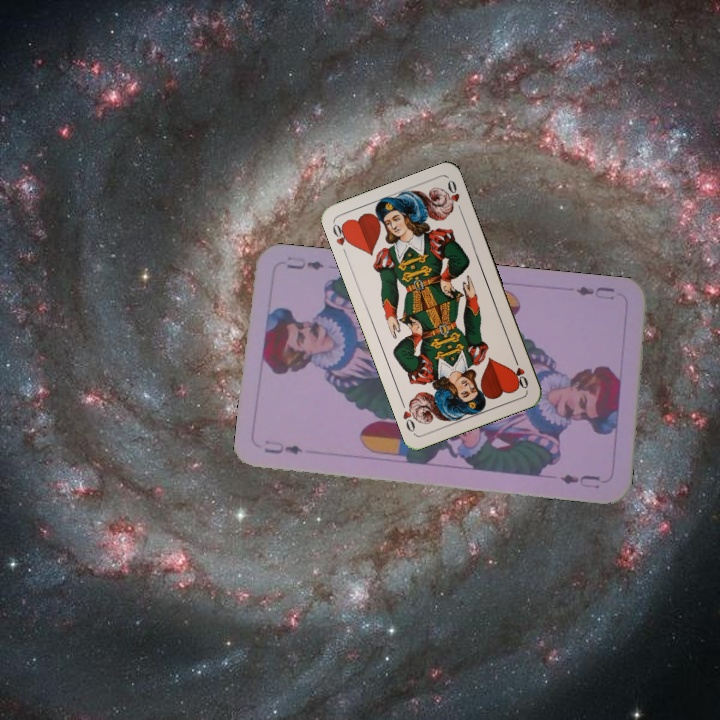EU: (572, 282, 617, 303), (260, 437, 306, 457)
HO: (510, 353, 531, 392), (328, 219, 354, 248)
